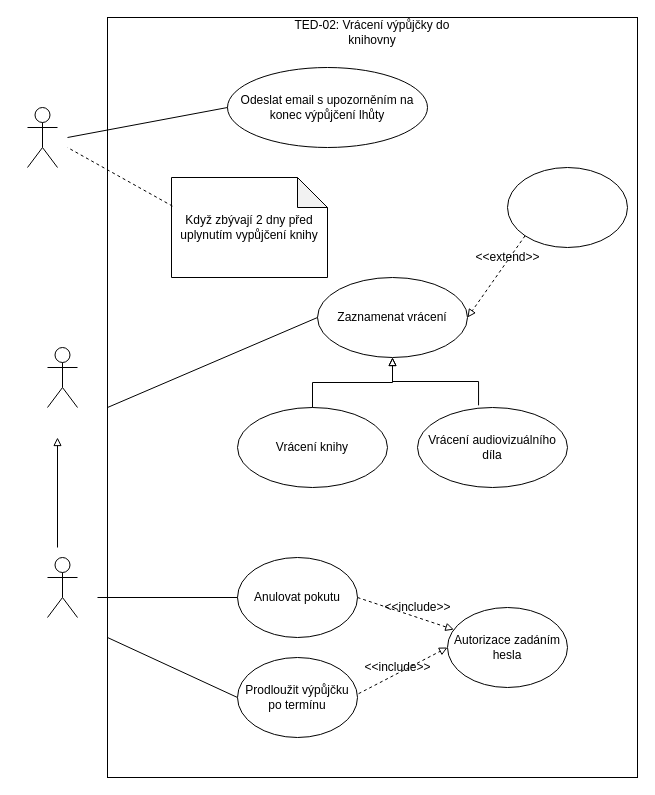
Image size: 655x795. Some labels were removed from this diagram. The shapes that lost their labels are listed below. From the top down, each one's box as (x1, y1, x2, y2) in pixels, then its label:
(26, 106, 58, 168): čas
(506, 166, 628, 248): TED-03: Uložit pokutu
(46, 346, 78, 408): knihovník
(46, 556, 78, 618): vedoucí oddělení
